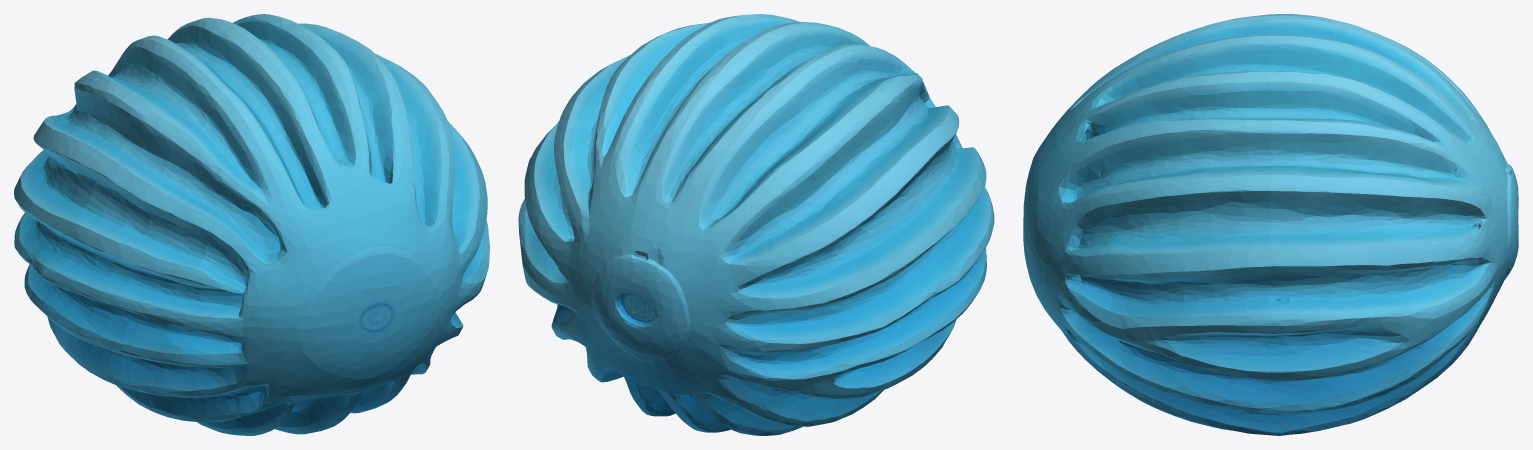
The model's file is blue_ball.glb.
The picture shows the model from 3 angles, left to right: view 1: azimuth 30°, elevation 25°; view 2: azimuth 150°, elevation 25°; view 3: azimuth 270°, elevation 25°; orthographic projection.
Visible parts, largest first — view 1: world; view 2: world; view 3: world.
Boxes of the visible parts, x1,y1,x2,y2 form: world: (14,14,489,435); world: (518,14,994,435); world: (1023,14,1518,435).
Bounding box in the file's own units: 0.9695 × 0.8267 × 0.9986.
1 material, 1 textured.
